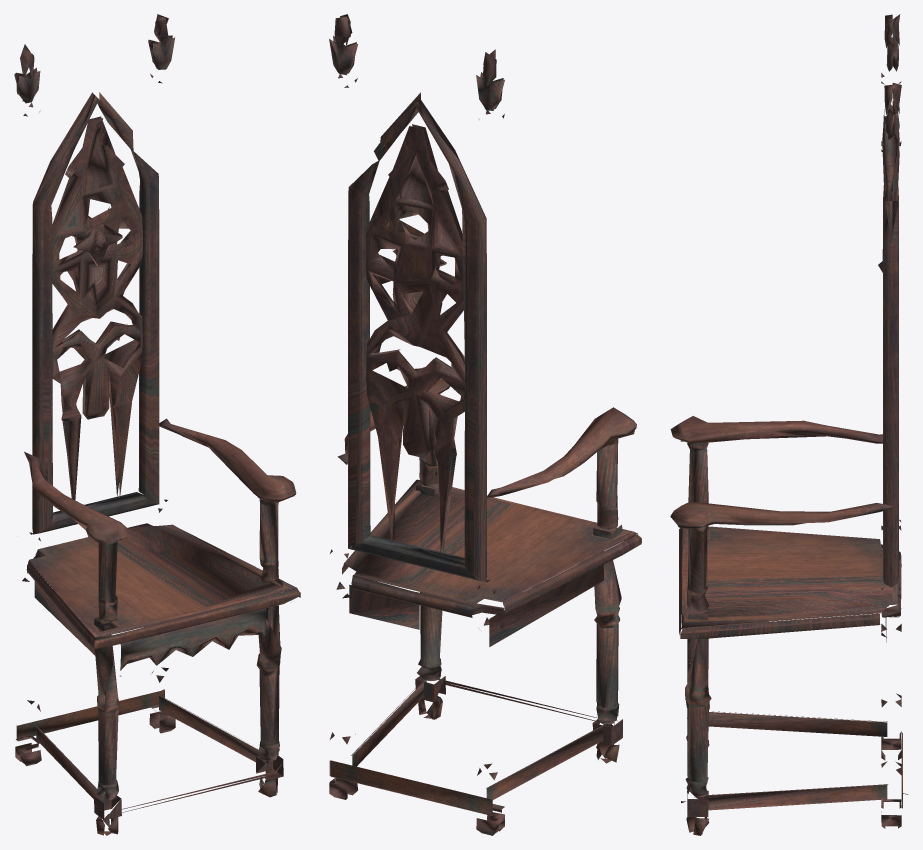
The model's file is WoodenChair_01.gltf.
The picture shows the model from 3 angles, left to right: view 1: azimuth 30°, elevation 25°; view 2: azimuth 150°, elevation 25°; view 3: azimuth 270°, elevation 25°; orthographic projection. The views are drawn at different scales.
Parts seen in each view (by area): view 1: WoodenChair_01; view 2: WoodenChair_01; view 3: WoodenChair_01.
Boxes of the visible parts, x1=… form: WoodenChair_01: x1=14, y1=14, x2=300, y2=835; WoodenChair_01: x1=329, y1=14, x2=641, y2=835; WoodenChair_01: x1=670, y1=14, x2=908, y2=835.
Bounding box in the file's own units: 0.6872 × 2.27 × 0.6591.
1 material, 1 textured.
